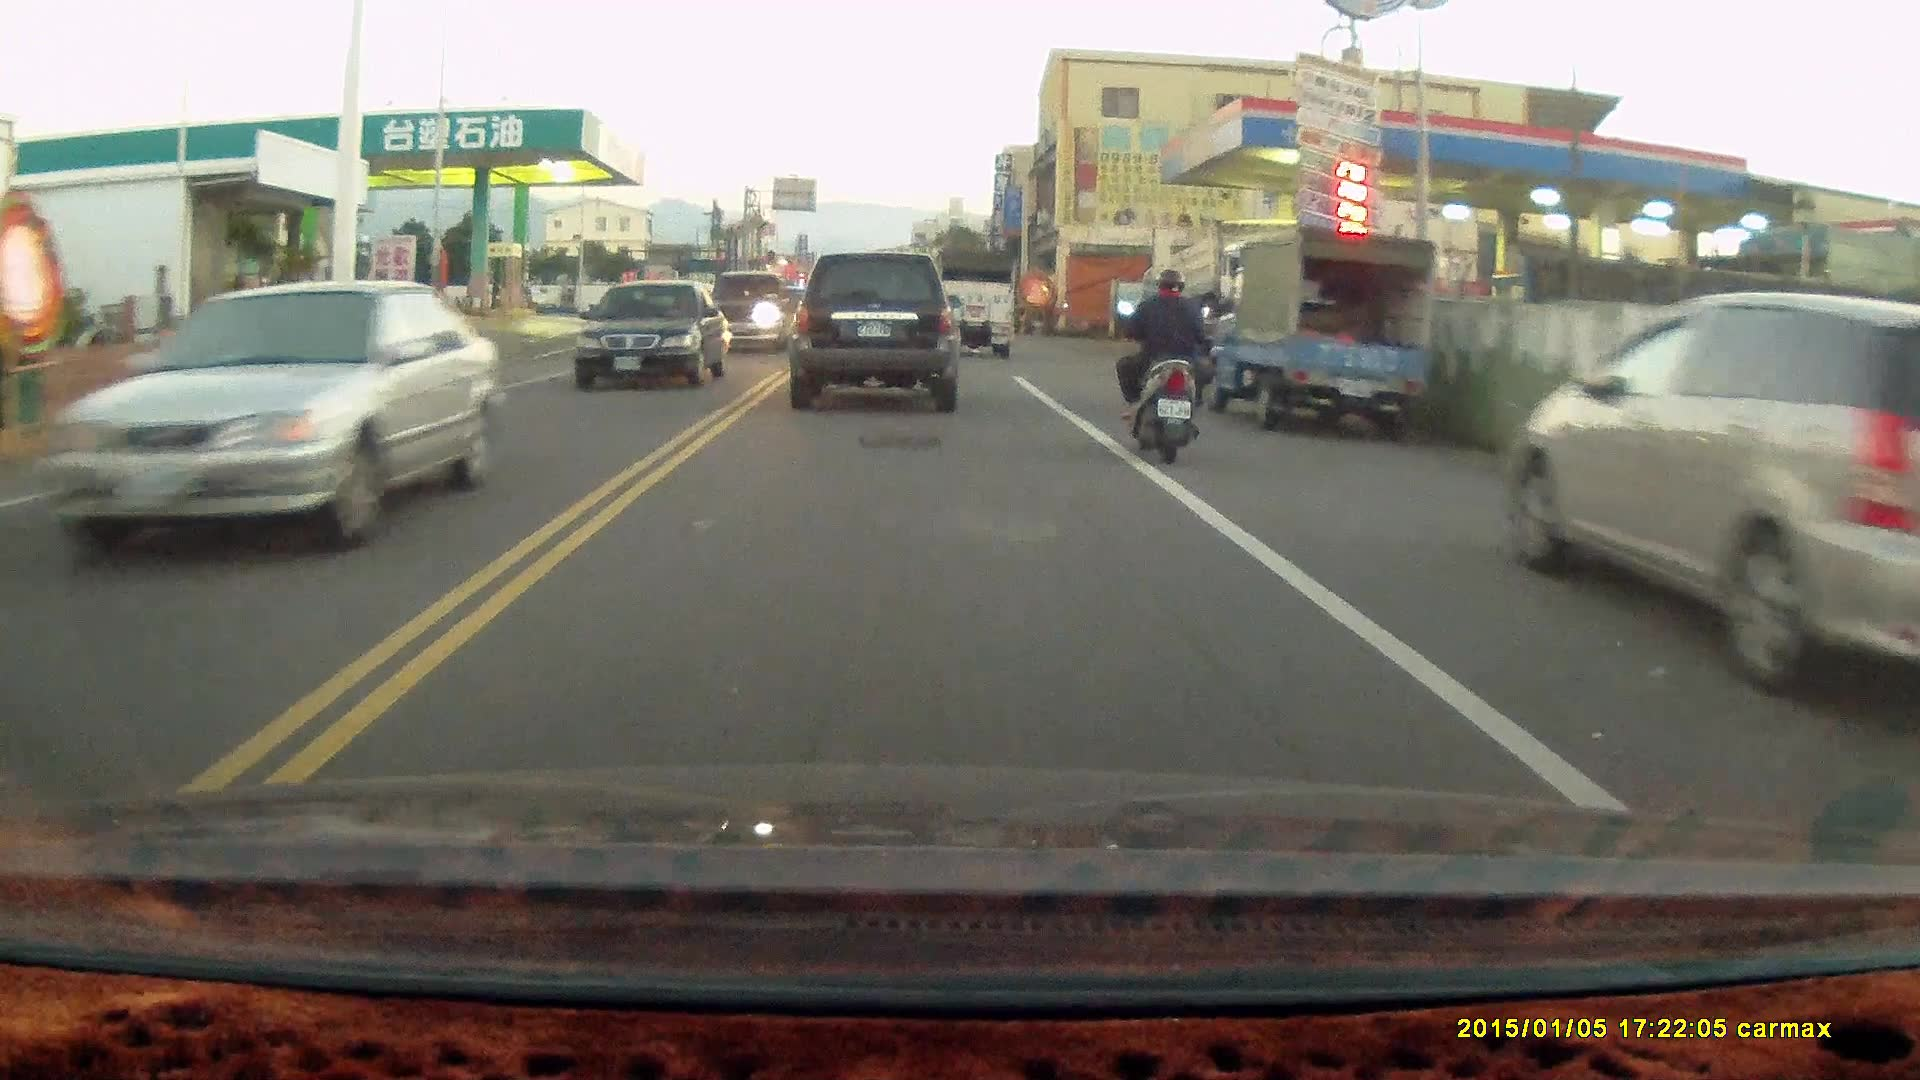rider: (1112, 268, 1215, 467)
vehicle: (1515, 290, 1920, 697), (57, 279, 502, 558), (1203, 231, 1442, 436), (785, 250, 960, 412), (571, 277, 735, 393), (934, 247, 1014, 359)
